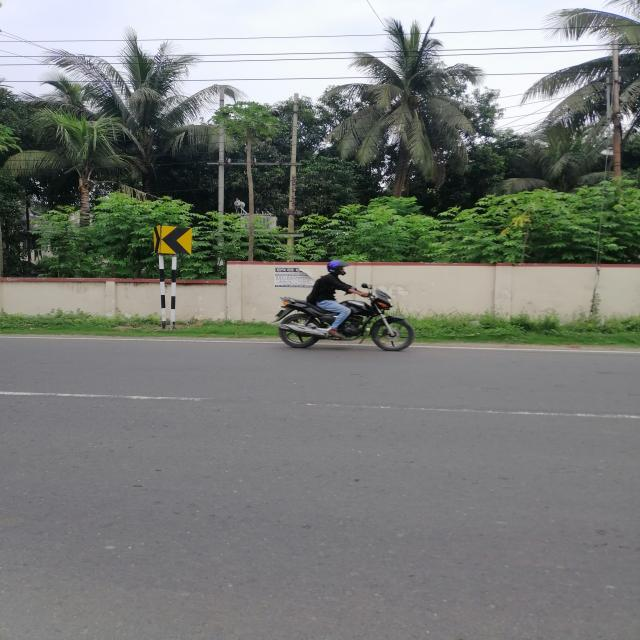Motorbike: (270, 284, 417, 353)
